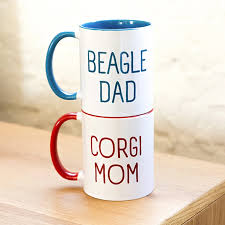mug: (23, 97, 187, 205), (20, 20, 168, 113)
